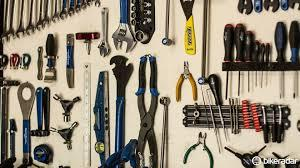wrench: (111, 0, 137, 53)
